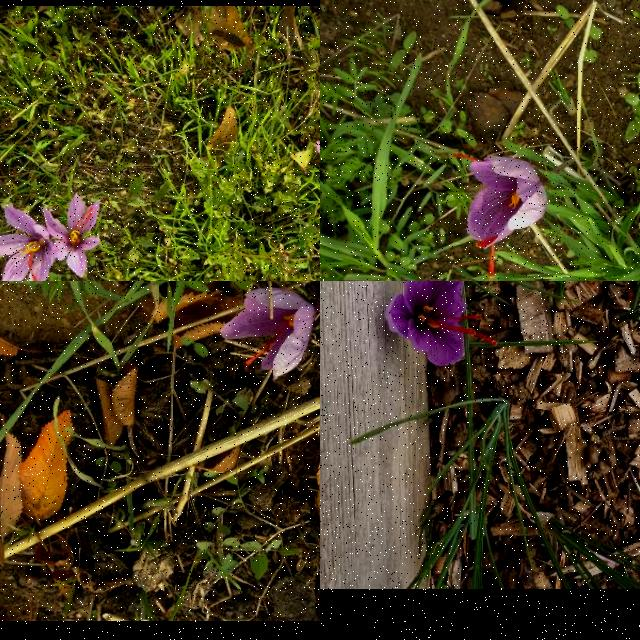flower: (452, 154, 548, 276), (384, 281, 495, 362), (220, 288, 316, 380), (41, 195, 101, 278), (0, 204, 50, 281)
